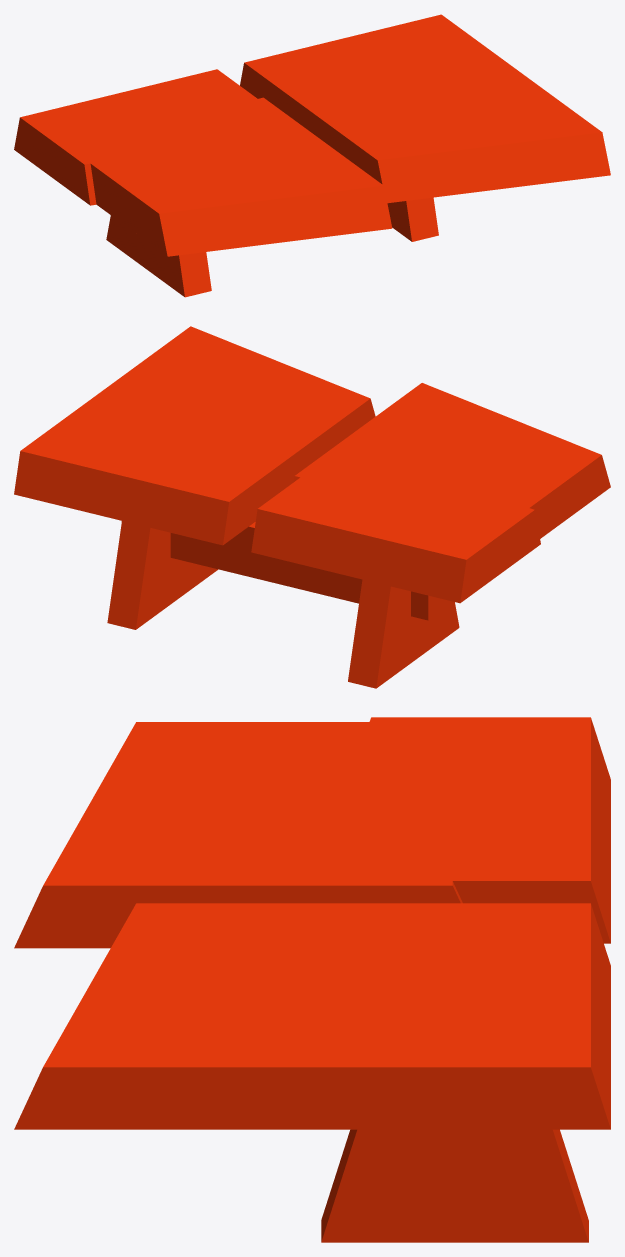
File: bench.FBX
3 views of the same model, one above another, from view 1: azimuth 30°, elevation 25°; view 2: azimuth 150°, elevation 25°; view 3: azimuth 270°, elevation 25° (orthographic). The views are drawn at different scales.
Parts seen in each view (by area): view 1: bench003, bench005, bench006, bench004, bench002; view 2: bench006, bench004, bench003, bench005, bench002; view 3: bench003, bench005, bench004, bench006, bench002.
Boxes of the visible parts, x1=… form: bench003: x1=299, y1=44, x2=610, y2=203; bench005: x1=90, y1=97, x2=392, y2=256; bench006: x1=14, y1=69, x2=300, y2=205; bench004: x1=240, y1=14, x2=523, y2=132; bench002: x1=106, y1=197, x2=438, y2=297; bench006: x1=251, y1=444, x2=540, y2=603; bench004: x1=14, y1=386, x2=300, y2=545; bench003: x1=109, y1=326, x2=375, y2=471; bench005: x1=293, y1=383, x2=610, y2=538; bench002: x1=107, y1=521, x2=459, y2=688; bench003: x1=14, y1=903, x2=481, y2=1129; bench005: x1=14, y1=722, x2=462, y2=948; bench004: x1=288, y1=903, x2=610, y2=1129; bench006: x1=307, y1=717, x2=610, y2=943; bench002: x1=321, y1=1129, x2=588, y2=1242.
Bounding box in the file's own units: 0.6273 × 0.2035 × 0.4522.
